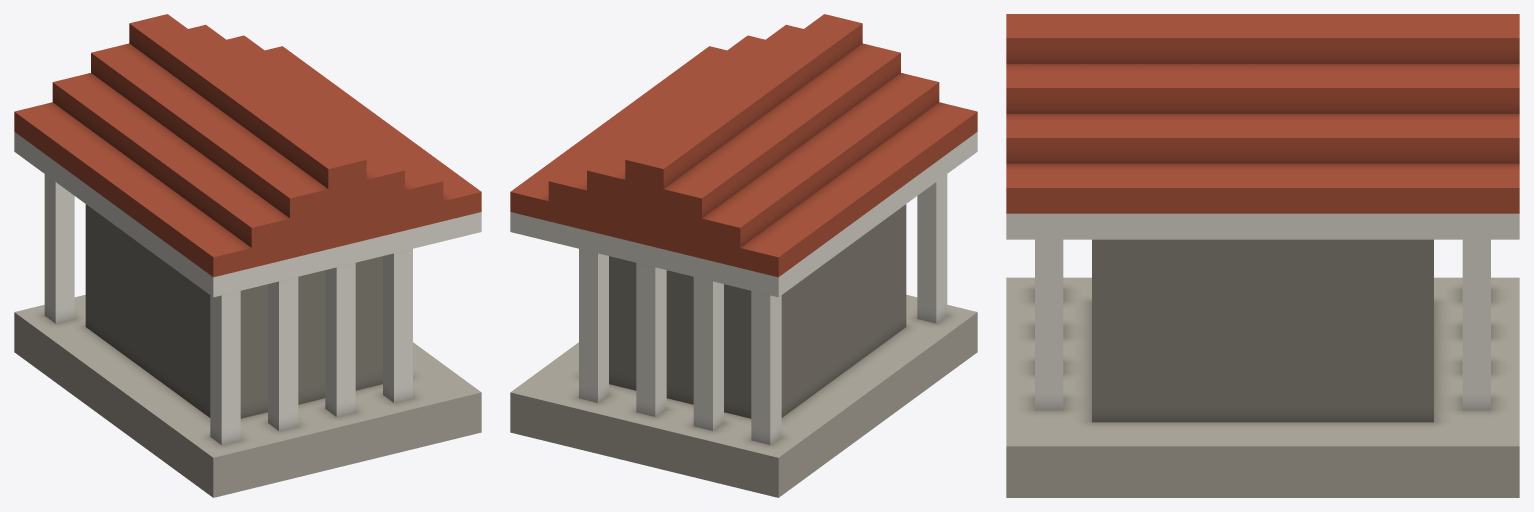
Rendered from c_temple.glb.
3 renders of one model, left to right at view 1: azimuth 30°, elevation 25°; view 2: azimuth 150°, elevation 25°; view 3: azimuth 270°, elevation 25°, orthographic. The views are drawn at different scales.
Visible parts, largest first — view 1: c_temple_body; view 2: c_temple_body; view 3: c_temple_body.
Part boxes in pixels (bbox=[...]): c_temple_body: bbox=[14, 14, 481, 497]; c_temple_body: bbox=[510, 14, 977, 497]; c_temple_body: bbox=[1006, 14, 1519, 497].
Bounding box in the file's own units: 0.875 × 0.9375 × 1.12.
1 material, 1 textured.
